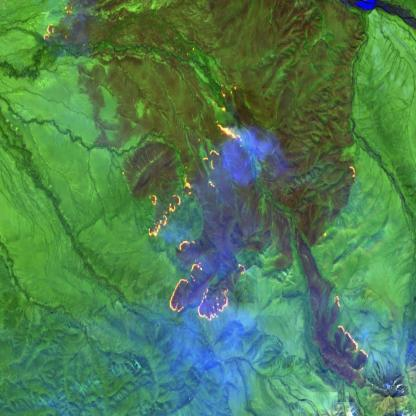fire: (143, 114, 252, 323), (324, 286, 372, 379), (40, 0, 80, 49)
